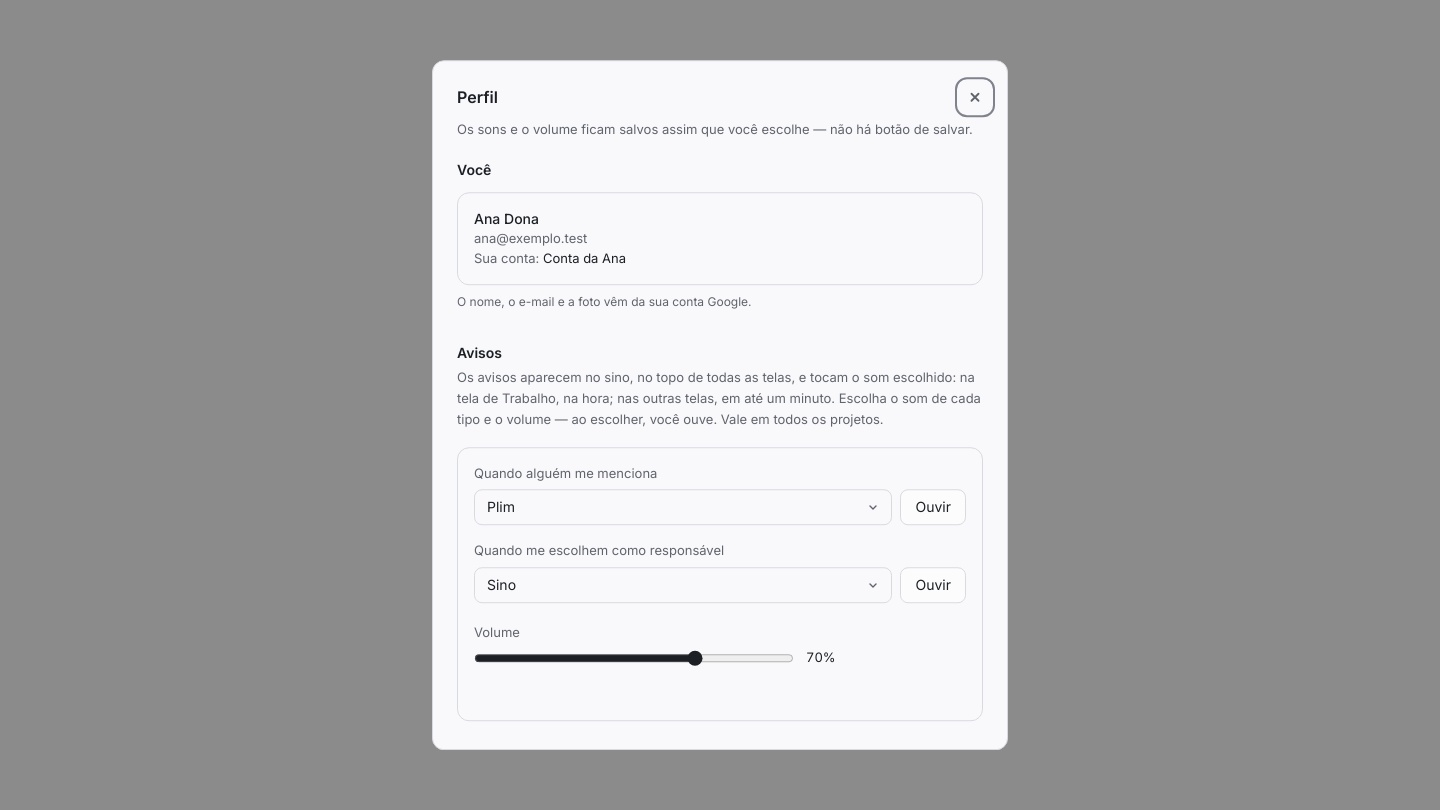
Test: o Perfil › a falha diz, e "Tentar de novo" manda o que esta na tela
The width and height of the screenshot is (1440, 810).
Step 1. Press the mouse on the dropdown named "Quando me escolhem como responsável" → (502, 584), box x1=474 y1=567 x2=892 y2=603
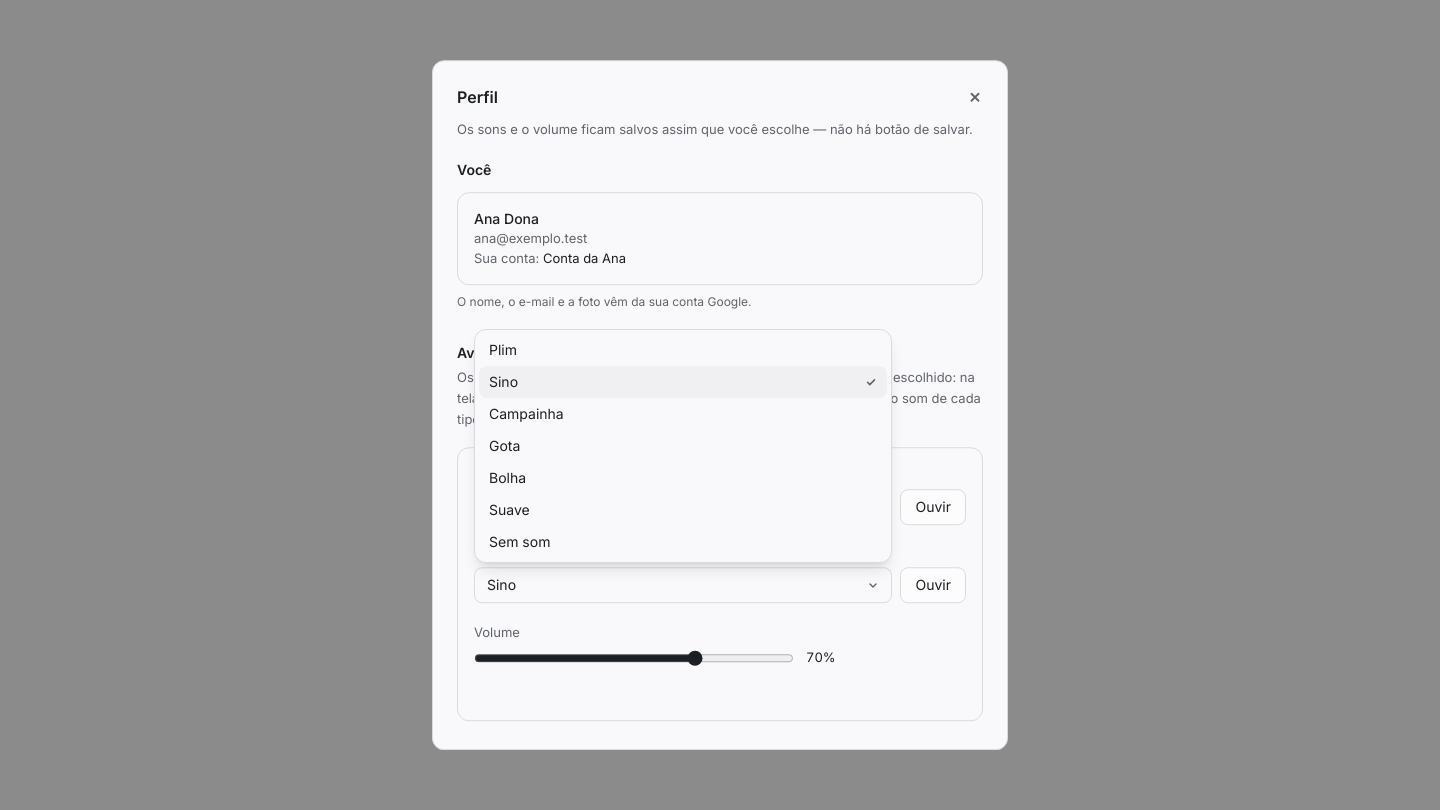
Step 2. Click the option "Gota" → (505, 446), box x1=489 y1=437 x2=520 y2=454
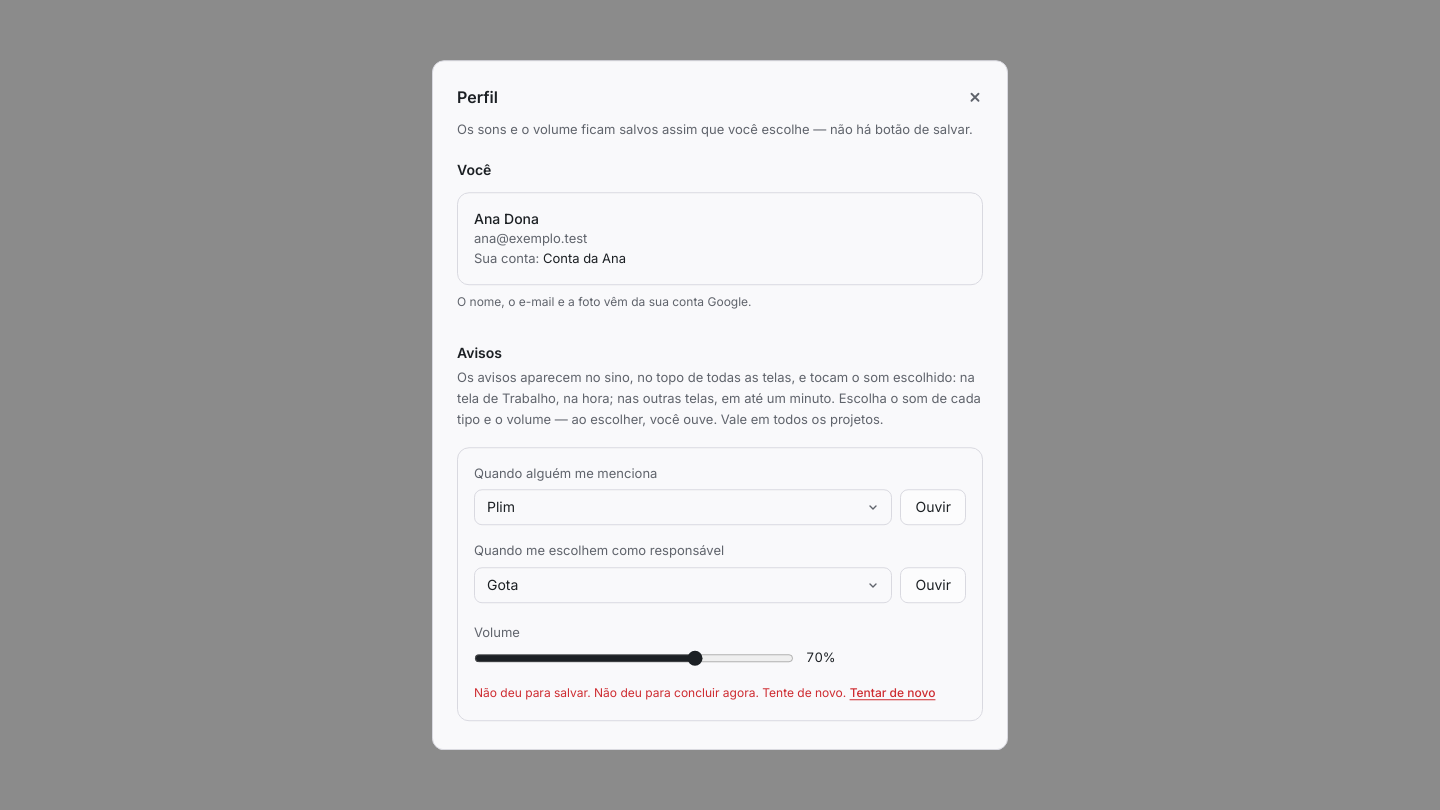
Expected: the text "Não deu para salvar." is shown, x1=474 y1=685 x2=591 y2=700
Step 3. Click the button "Tentar de novo" → (892, 693), box x1=850 y1=684 x2=935 y2=702
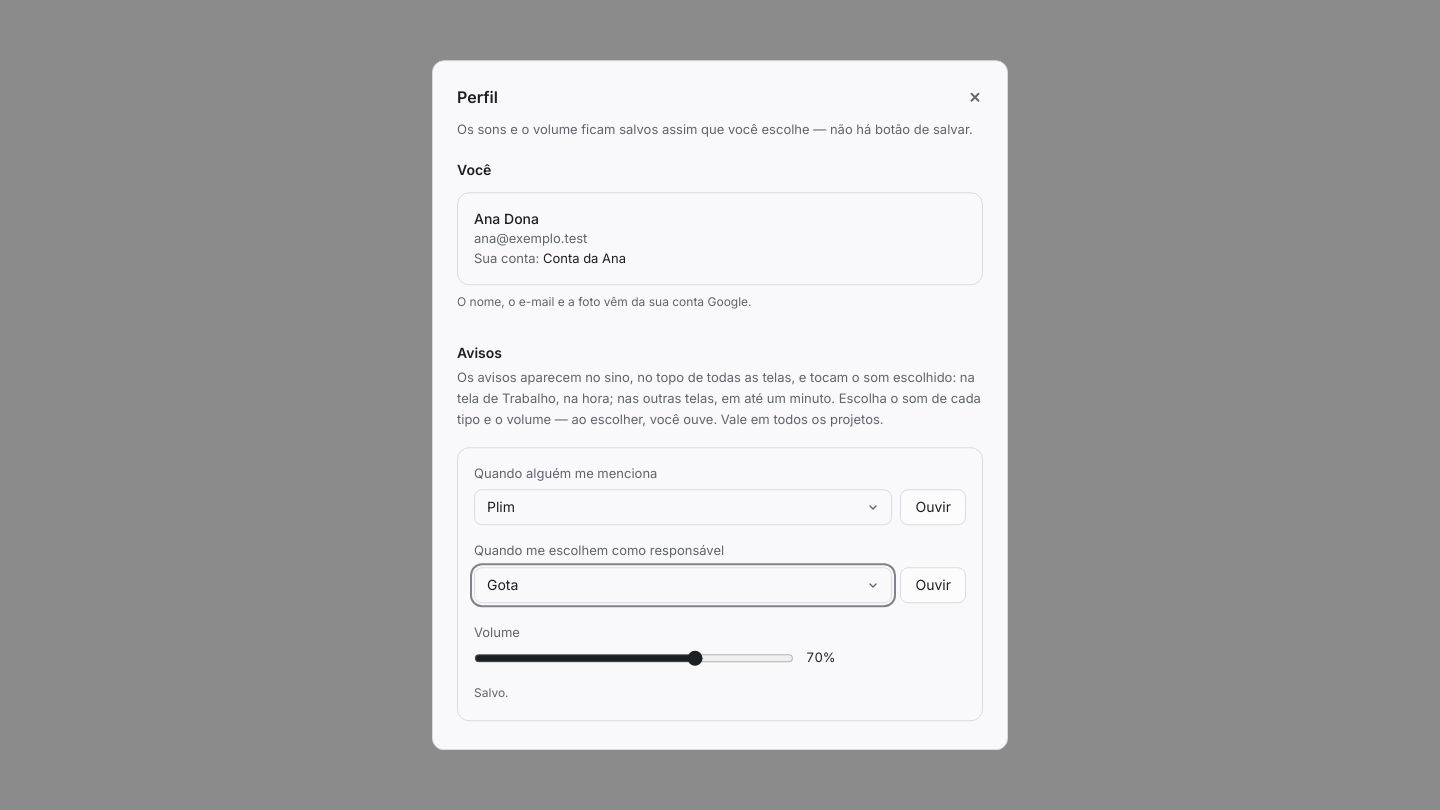
Expected: the text "Salvo." is shown, x1=474 y1=685 x2=509 y2=700
Expected: the text "Não deu para salvar" is gone
